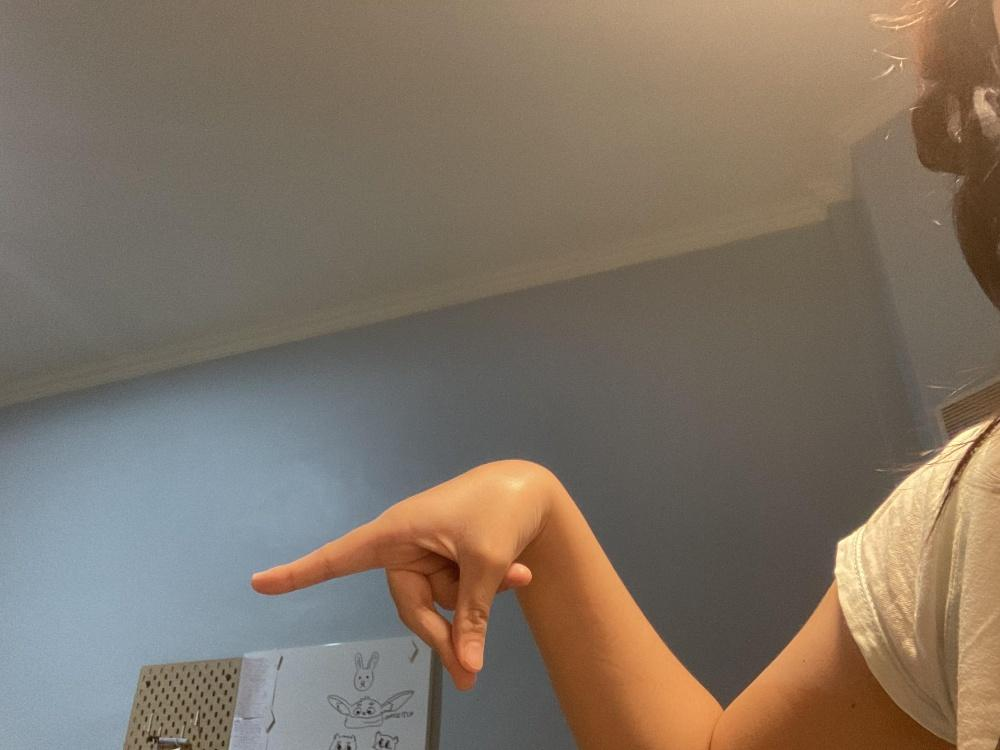p: (249, 458, 549, 689)
